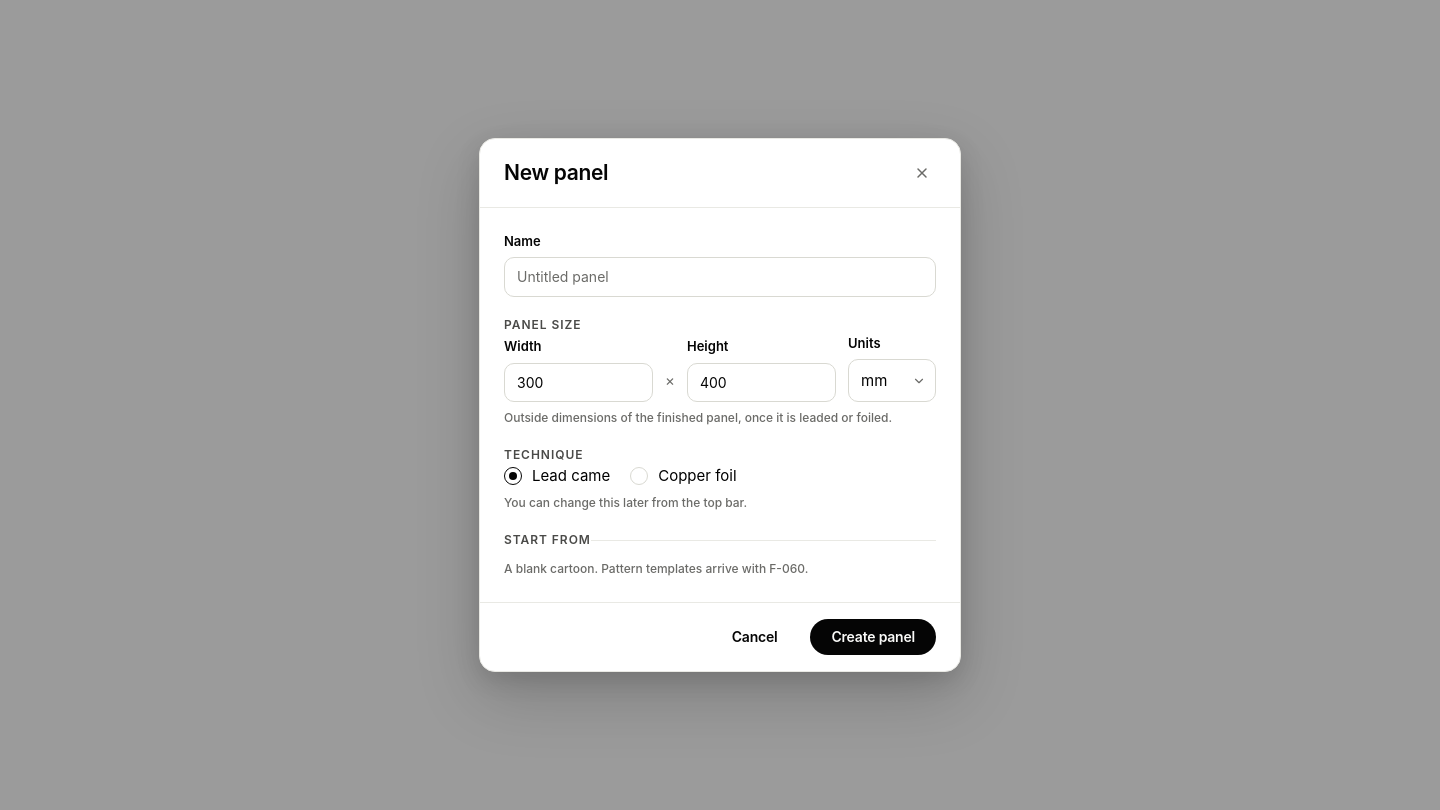
Test case: NewPanelDialog (F-058 FR-3) › stays quiet until submit, then reports the bad field and creates nothing
Replace the text in the field labelled "Width" with "0" at (578, 382), box [504,363,653,402]
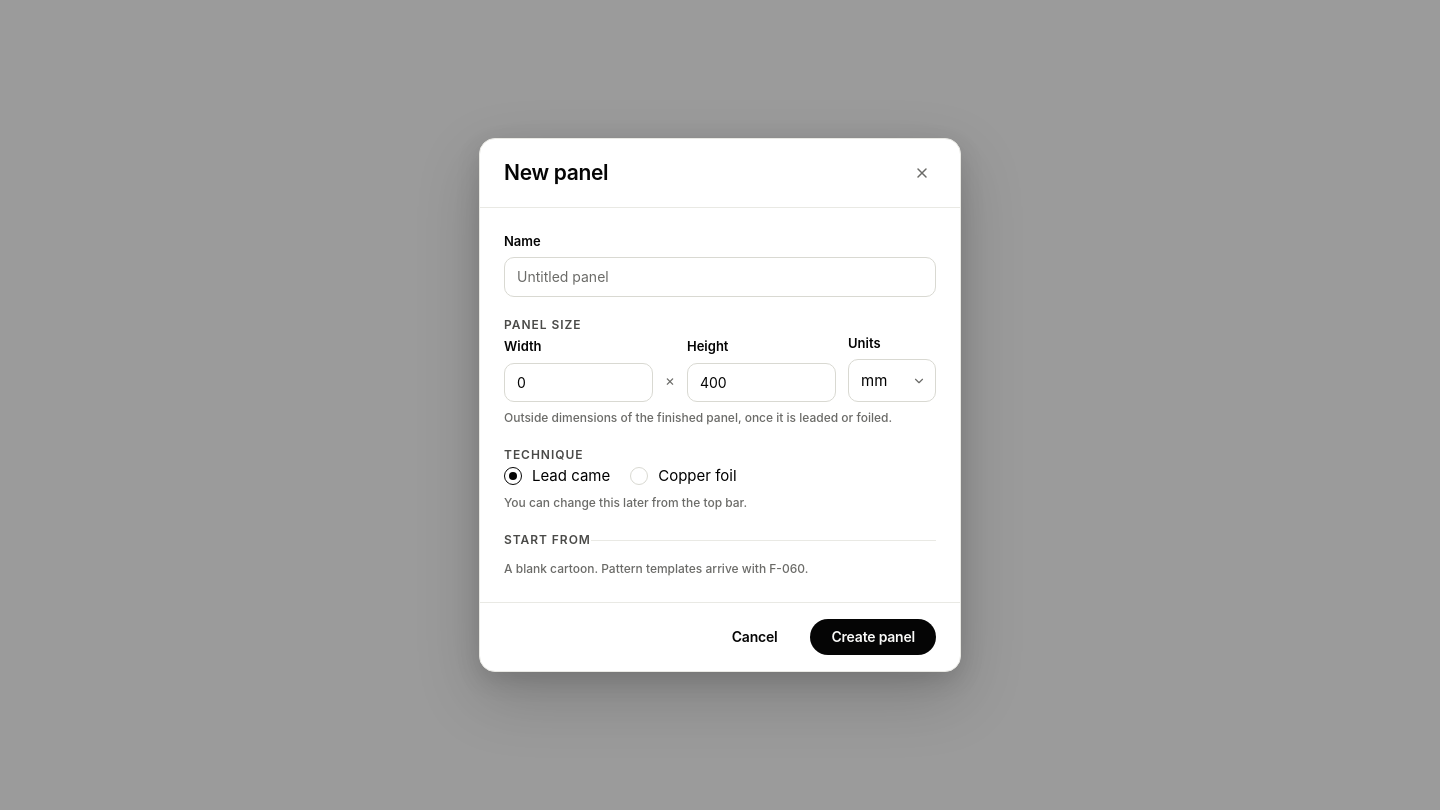
Expected: the text "Must be greater than zero" is not shown
Click the button "Create panel" at (873, 637), box [810,618,936,655]
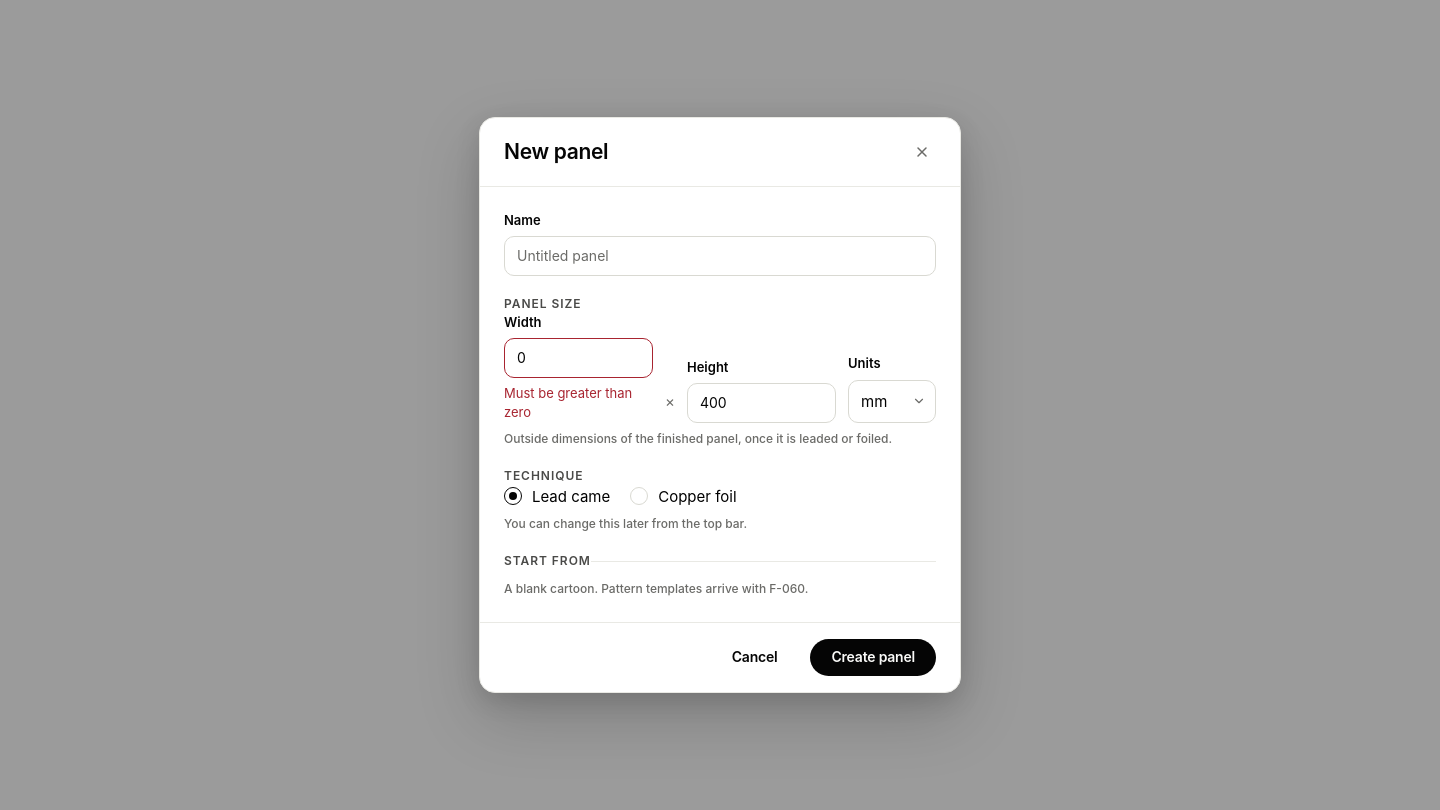
Expected: the text "Must be greater than zero" is shown, [504,384,653,423]
